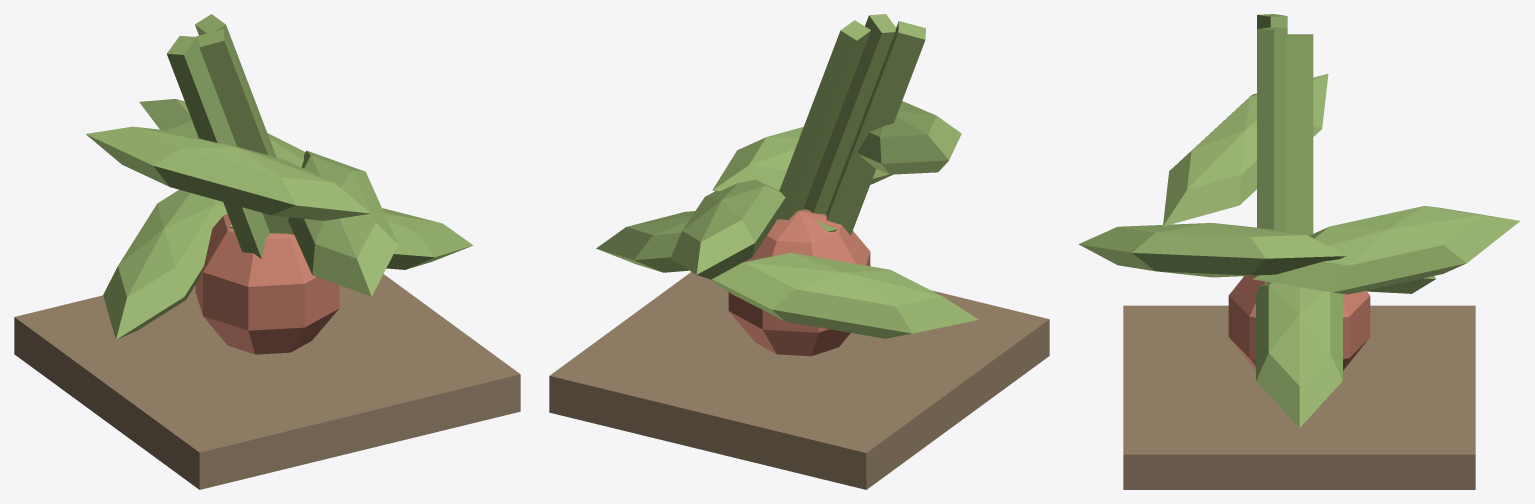
The model's file is cozy-farm-and-homestead-beetroot-mature-4fb363e5__19390.glb.
3 renders of one model, left to right at view 1: azimuth 30°, elevation 25°; view 2: azimuth 150°, elevation 25°; view 3: azimuth 270°, elevation 25°, orthographic. The views are drawn at different scales.
Parts seen in each view (by area): view 1: beetroot-mature_2, beetroot-mature_1, beetroot-mature_0; view 2: beetroot-mature_2, beetroot-mature_1, beetroot-mature_0; view 3: beetroot-mature_2, beetroot-mature_1, beetroot-mature_0.
Boxes of the visible parts, x1,y1,x2,y2 form: beetroot-mature_2: (14,274,520,489); beetroot-mature_1: (86,14,473,339); beetroot-mature_0: (195,213,339,354); beetroot-mature_2: (549,272,1049,489); beetroot-mature_1: (596,14,978,338); beetroot-mature_0: (728,209,870,356); beetroot-mature_2: (1123,305,1475,489); beetroot-mature_1: (1079,14,1519,427); beetroot-mature_0: (1228,275,1370,370).
Size of the model in its own units: 0.5227 by 0.5061 by 0.5649.
